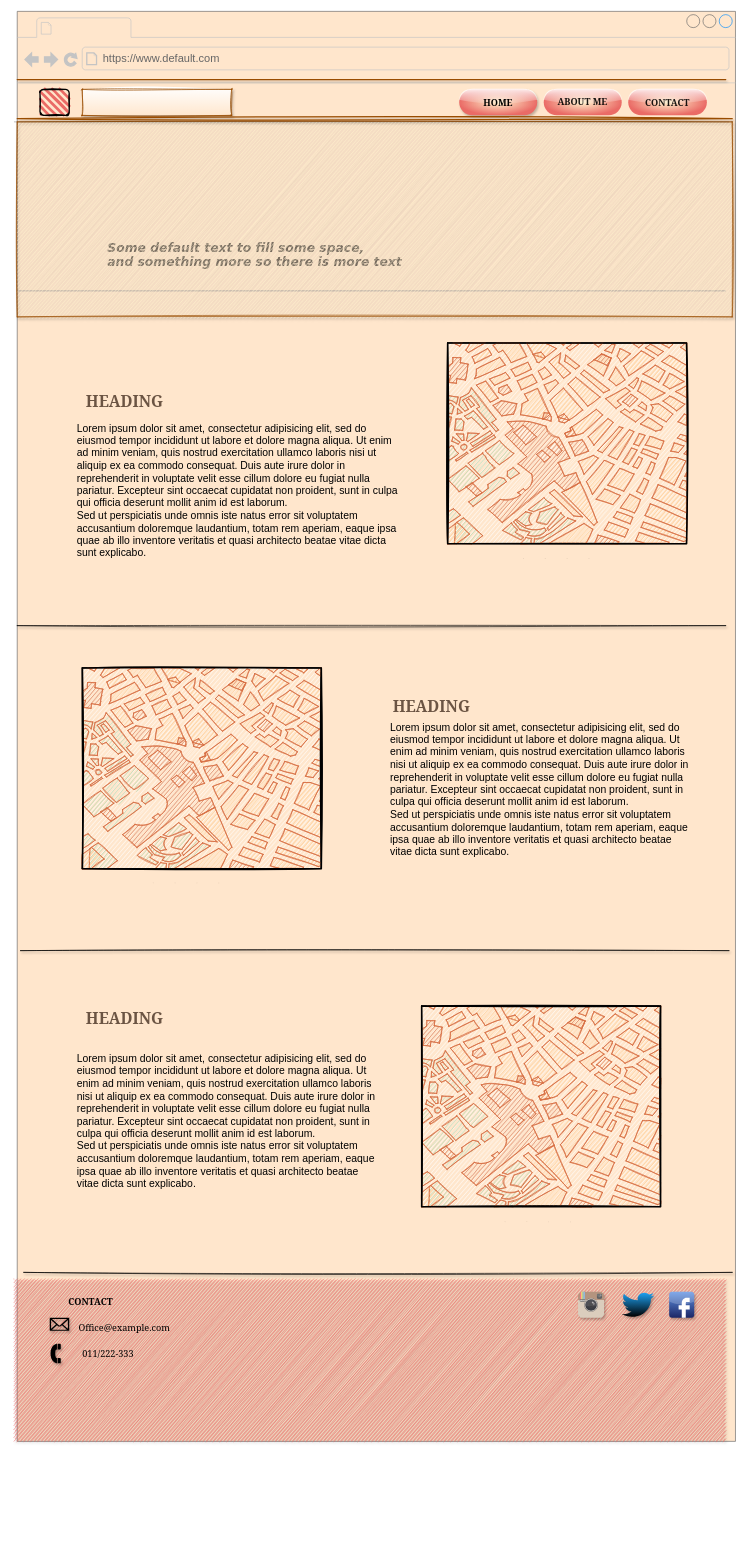
Some shapes in this 748 by 1542 pixel diagram are drawn without their labels. Each missing label, with the centre of its shape:
Page 1: the point at 92,27
Website Name: the point at 157,103
